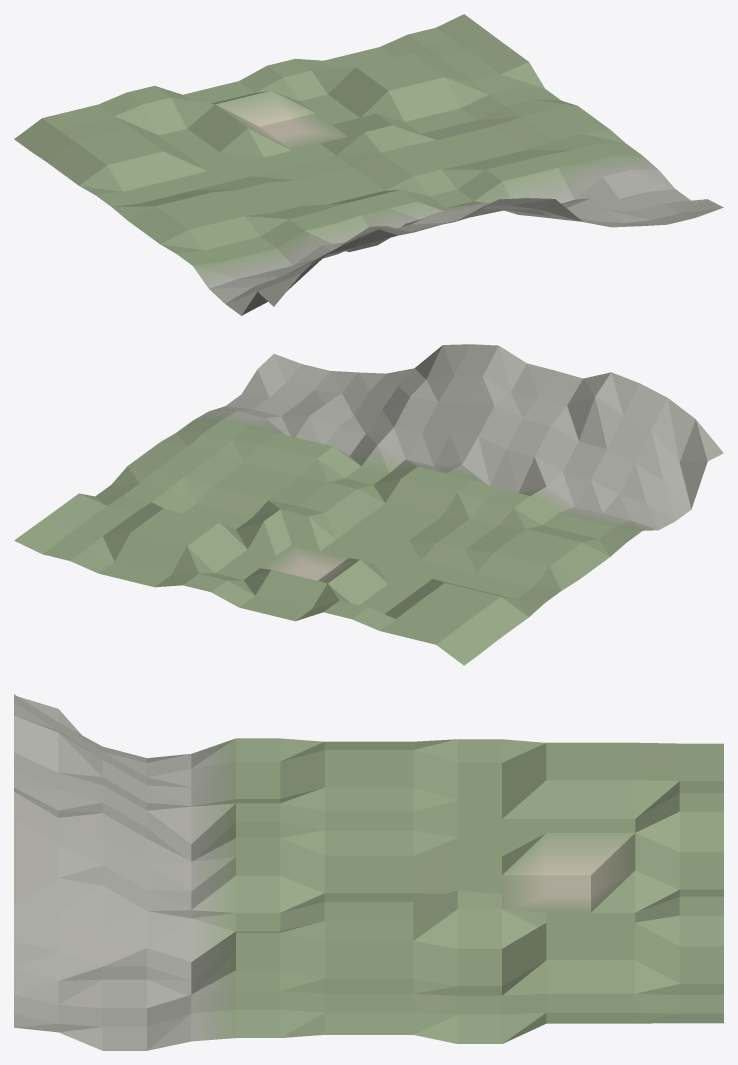
3 renders of one model, top to bottom at view 1: azimuth 30°, elevation 25°; view 2: azimuth 150°, elevation 25°; view 3: azimuth 270°, elevation 25°, orthographic. The views are drawn at different scales.
Bounding box in the file's own units: 32 × 5.85 × 32.
